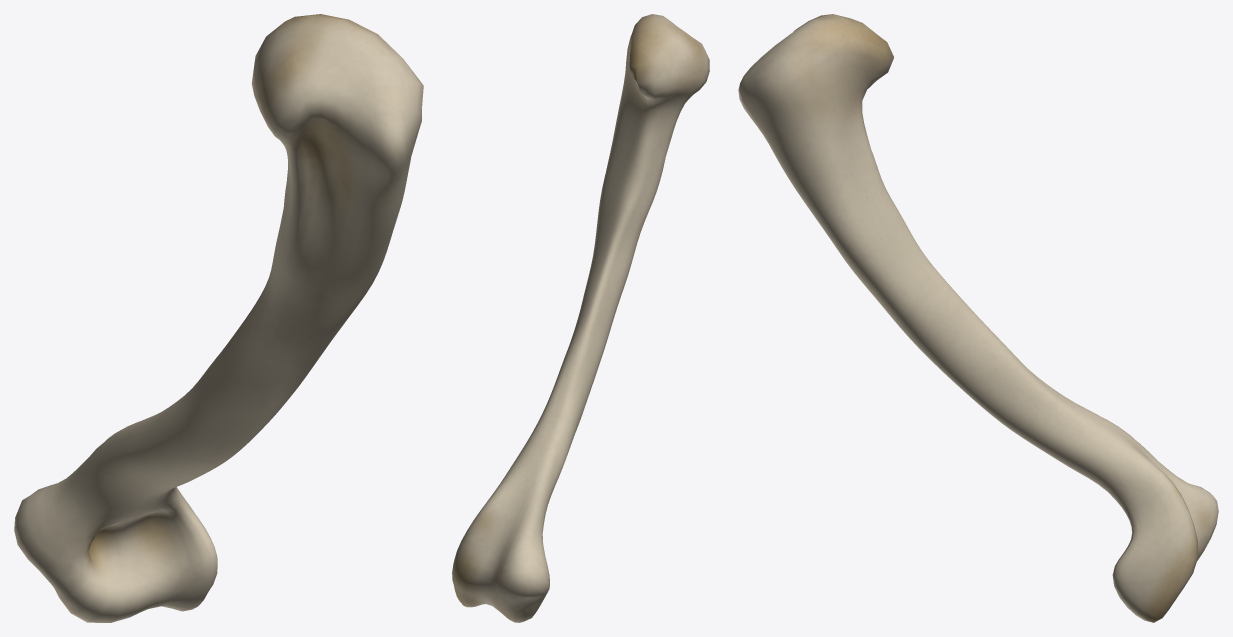
File: L Humerus.fbx
The picture shows the model from 3 angles, left to right: view 1: azimuth 30°, elevation 25°; view 2: azimuth 150°, elevation 25°; view 3: azimuth 270°, elevation 25°; orthographic projection. The views are drawn at different scales.
Visible parts, largest first — view 1: L Humerus; view 2: L Humerus; view 3: L Humerus.
Part boxes in pixels (x1,y1,x2,y2): L Humerus: (14,14,423,622); L Humerus: (452,14,709,622); L Humerus: (738,14,1218,622).
Bounding box in the file's own units: 7.47 × 34.86 × 26.32.
